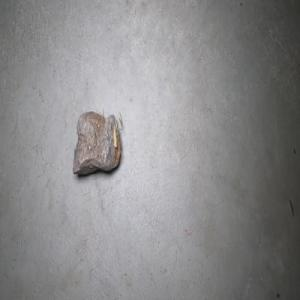Rock: (72, 108, 122, 174)
